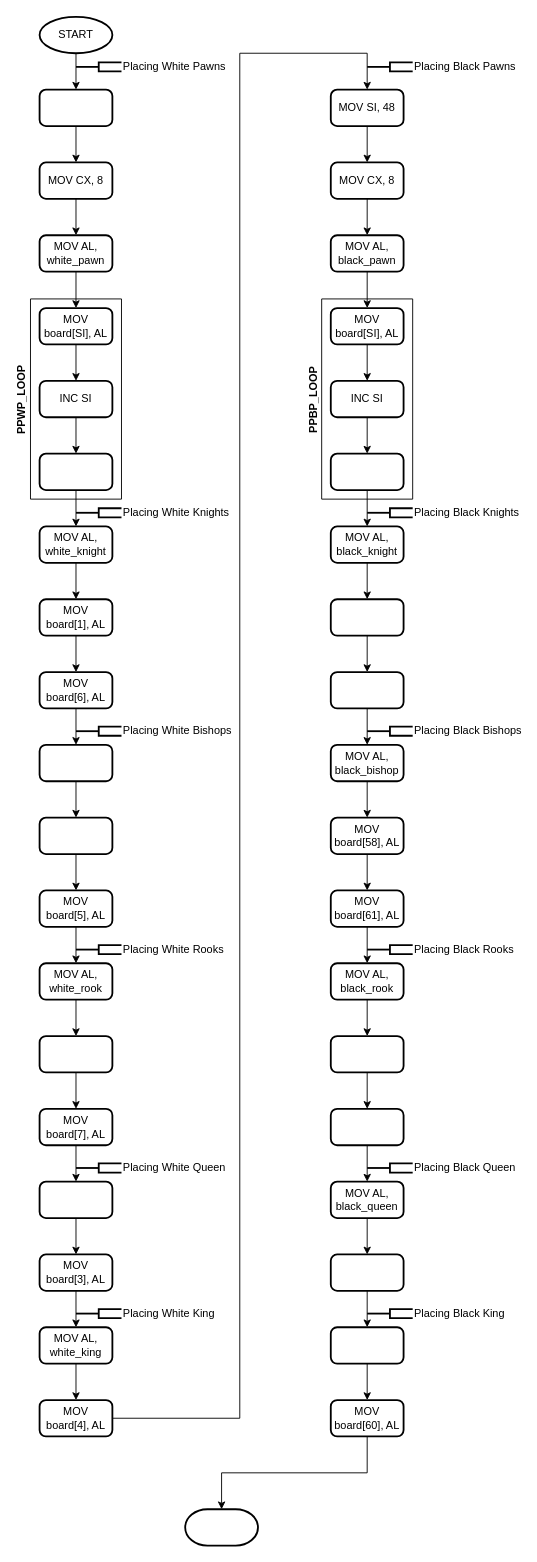
This 537x1562 diagram has some shape labels left out. Each missing label, with the centre of its shape:
LOOP PPBP_LOOP: point (366, 471)
LOOP PPWP_LOOP: point (75, 471)
MOV AL, black_king: point (366, 1345)
MOV AL, white_bishop: point (75, 762)
MOV AL, white_queen: point (75, 1199)
MOV board[0], AL: point (75, 1054)
MOV board[2], AL: point (75, 835)
MOV board[56], AL: point (366, 1054)
MOV board[57], AL: point (366, 617)
MOV board[59 ], AL: point (366, 1272)
MOV board[62], AL: point (366, 690)
MOV board[63], AL: point (366, 1126)
MOV SI, 8: point (75, 107)
RET: point (221, 1527)
